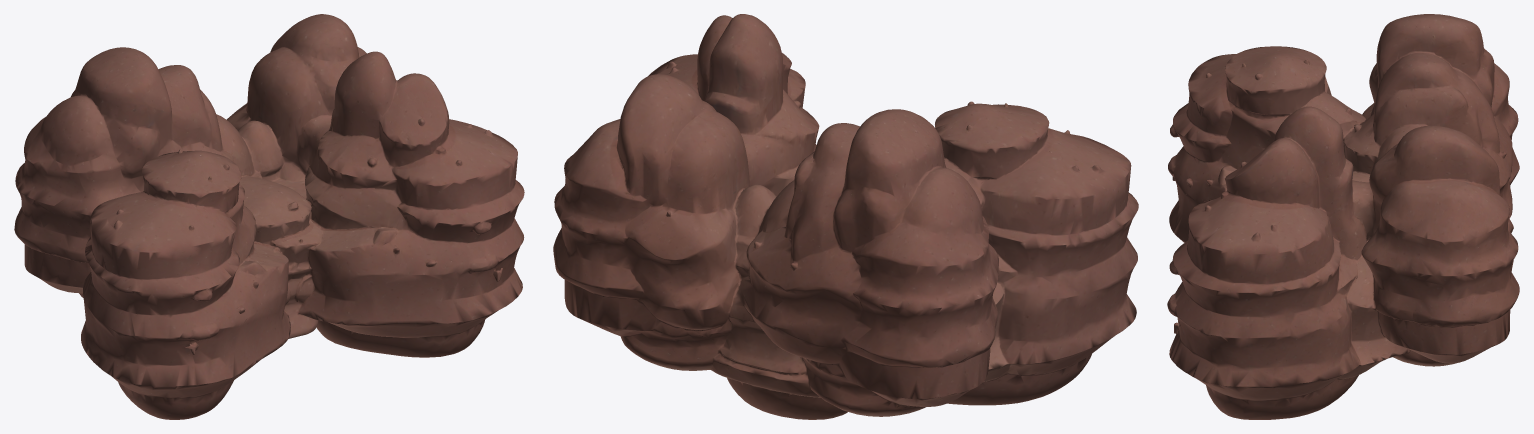
The model's file is base_hair_unisex.glb.
3 renders of one model, left to right at view 1: azimuth 30°, elevation 25°; view 2: azimuth 150°, elevation 25°; view 3: azimuth 270°, elevation 25°, orthographic. The views are drawn at different scales.
Bounding box in the file's own units: 1.9 × 1.28 × 1.39.
Materials: 1 (1 with a texture image).
